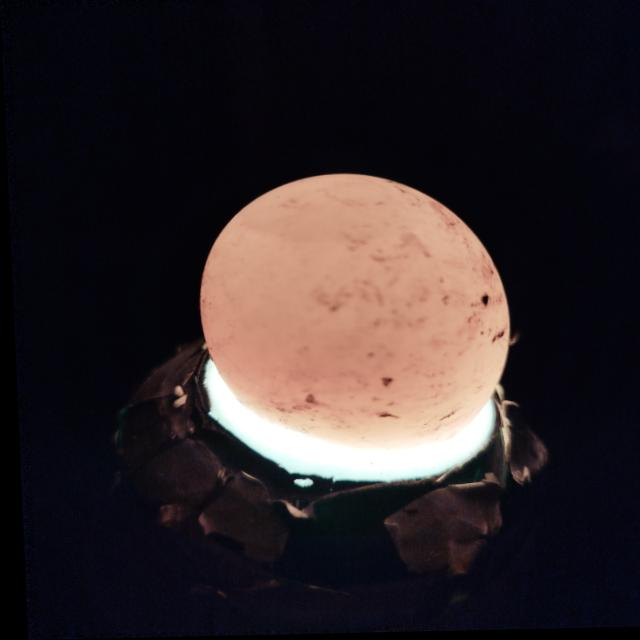Camara de Ar: (231, 177, 436, 239)
